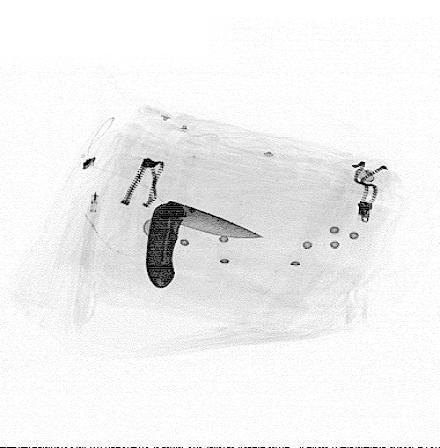Knife: (142, 201, 268, 290)
